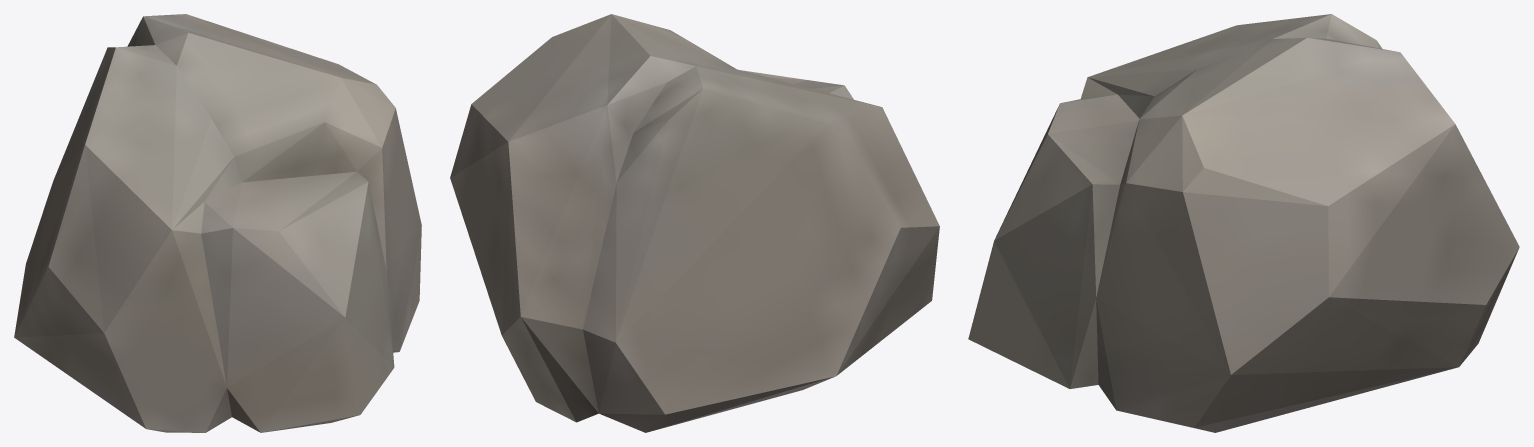
The model's file is rock_01.glb.
The picture shows the model from 3 angles, left to right: view 1: azimuth 30°, elevation 25°; view 2: azimuth 150°, elevation 25°; view 3: azimuth 270°, elevation 25°; orthographic projection. The views are drawn at different scales.
Visible parts, largest first — view 1: SM_Rocks_01_RocksStylized_M_0; view 2: SM_Rocks_01_RocksStylized_M_0; view 3: SM_Rocks_01_RocksStylized_M_0.
Boxes of the visible parts, x1,y1,x2,y2 form: SM_Rocks_01_RocksStylized_M_0: (14,14,421,432); SM_Rocks_01_RocksStylized_M_0: (450,14,939,432); SM_Rocks_01_RocksStylized_M_0: (968,14,1519,432).
Size of the model in its own units: 1.17 by 0.8438 by 1.34.
Materials: 1 (1 with a texture image).
